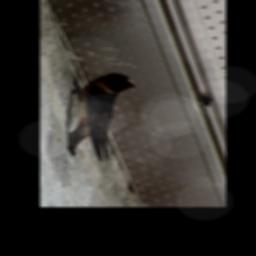Swallow: (65, 73, 136, 162)
